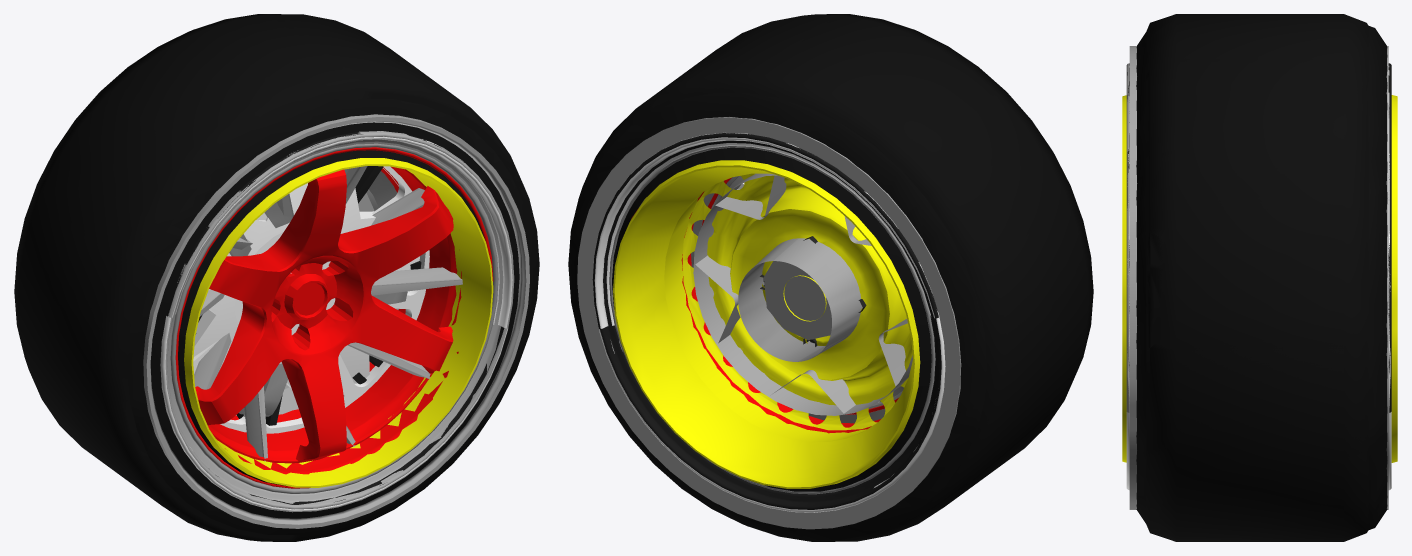
The model's file is WheelPack1.FBX.
3 views of the same model, side by side, from view 1: azimuth 30°, elevation 25°; view 2: azimuth 150°, elevation 25°; view 3: azimuth 270°, elevation 25° (orthographic). The views are drawn at different scales.
Parts seen in each view (by area): view 1: Wheel_3, Wheel_6, Wheel_4, Wheel_7, Wheel_1, Wheel_5, Wheel_2, Wheel_8; view 2: Wheel_5, Wheel_4, Wheel_7, Wheel_1, Wheel_3, Wheel_8, Wheel_2, Wheel_6; view 3: Wheel_4, Wheel_1, Wheel_3, Wheel_7, Wheel_5, Wheel_2.
Boxes of the visible parts, x1,y1,x2,y2 form: Wheel_3: [20, 14, 539, 541]; Wheel_6: [175, 147, 493, 488]; Wheel_4: [14, 14, 513, 504]; Wheel_7: [17, 32, 533, 535]; Wheel_1: [18, 16, 520, 541]; Wheel_5: [178, 150, 493, 487]; Wheel_2: [160, 136, 512, 512]; Wheel_8: [170, 143, 498, 493]; Wheel_5: [612, 147, 931, 491]; Wheel_4: [568, 14, 1091, 541]; Wheel_7: [568, 93, 986, 540]; Wheel_1: [585, 19, 1088, 541]; Wheel_3: [610, 14, 1093, 506]; Wheel_8: [609, 146, 935, 494]; Wheel_2: [594, 137, 945, 512]; Wheel_6: [631, 177, 898, 433]; Wheel_4: [1127, 14, 1391, 532]; Wheel_1: [1127, 33, 1390, 541]; Wheel_3: [1126, 17, 1389, 536]; Wheel_7: [1129, 26, 1388, 529]; Wheel_5: [1122, 95, 1397, 462]; Wheel_2: [1126, 412, 1391, 490].
Size of the model in its own units: 31099 by 31099 by 16227.
